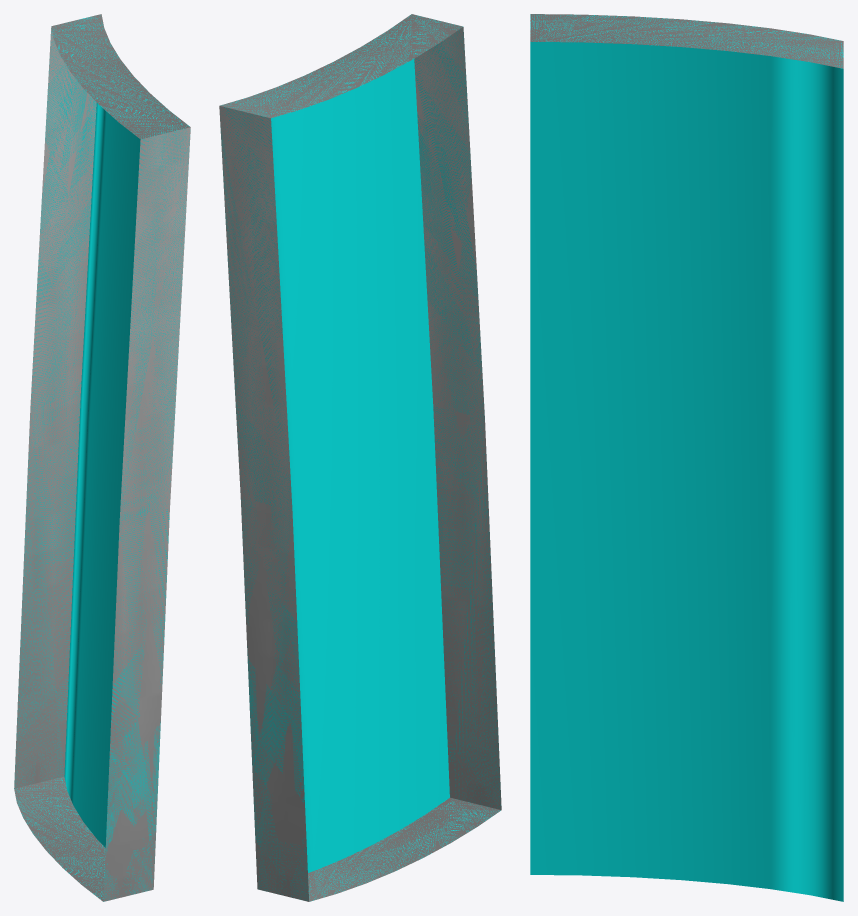
Rendered from original-41.obj.
The picture shows the model from 3 angles, left to right: view 1: azimuth 30°, elevation 25°; view 2: azimuth 150°, elevation 25°; view 3: azimuth 270°, elevation 25°; orthographic projection. The views are drawn at different scales.
Visible parts, largest first — view 1: Group4/mesh3/mesh3-geometry/material_2/component_1#mesh3-geometr; view 2: Group4/mesh3/mesh3-geometry/material_2/component_1#mesh3-geometr; view 3: Group4/mesh3/mesh3-geometry/material_2/component_1#mesh3-geometr.
Part boxes in pixels (x1,y1,x2,y2): Group4/mesh3/mesh3-geometry/material_2/component_1#mesh3-geometr: (14, 14, 190, 901); Group4/mesh3/mesh3-geometry/material_2/component_1#mesh3-geometr: (219, 14, 501, 901); Group4/mesh3/mesh3-geometry/material_2/component_1#mesh3-geometr: (530, 14, 843, 901).
Size of the model in its own units: 0.0604 by 0.3184 by 0.106.
Materials: 2 (1 with a texture image).
